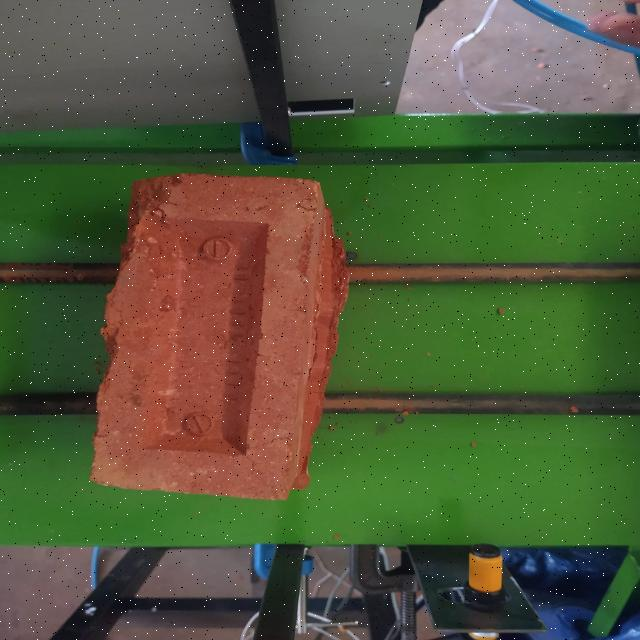bricks_ruin: (92, 175, 351, 500)
